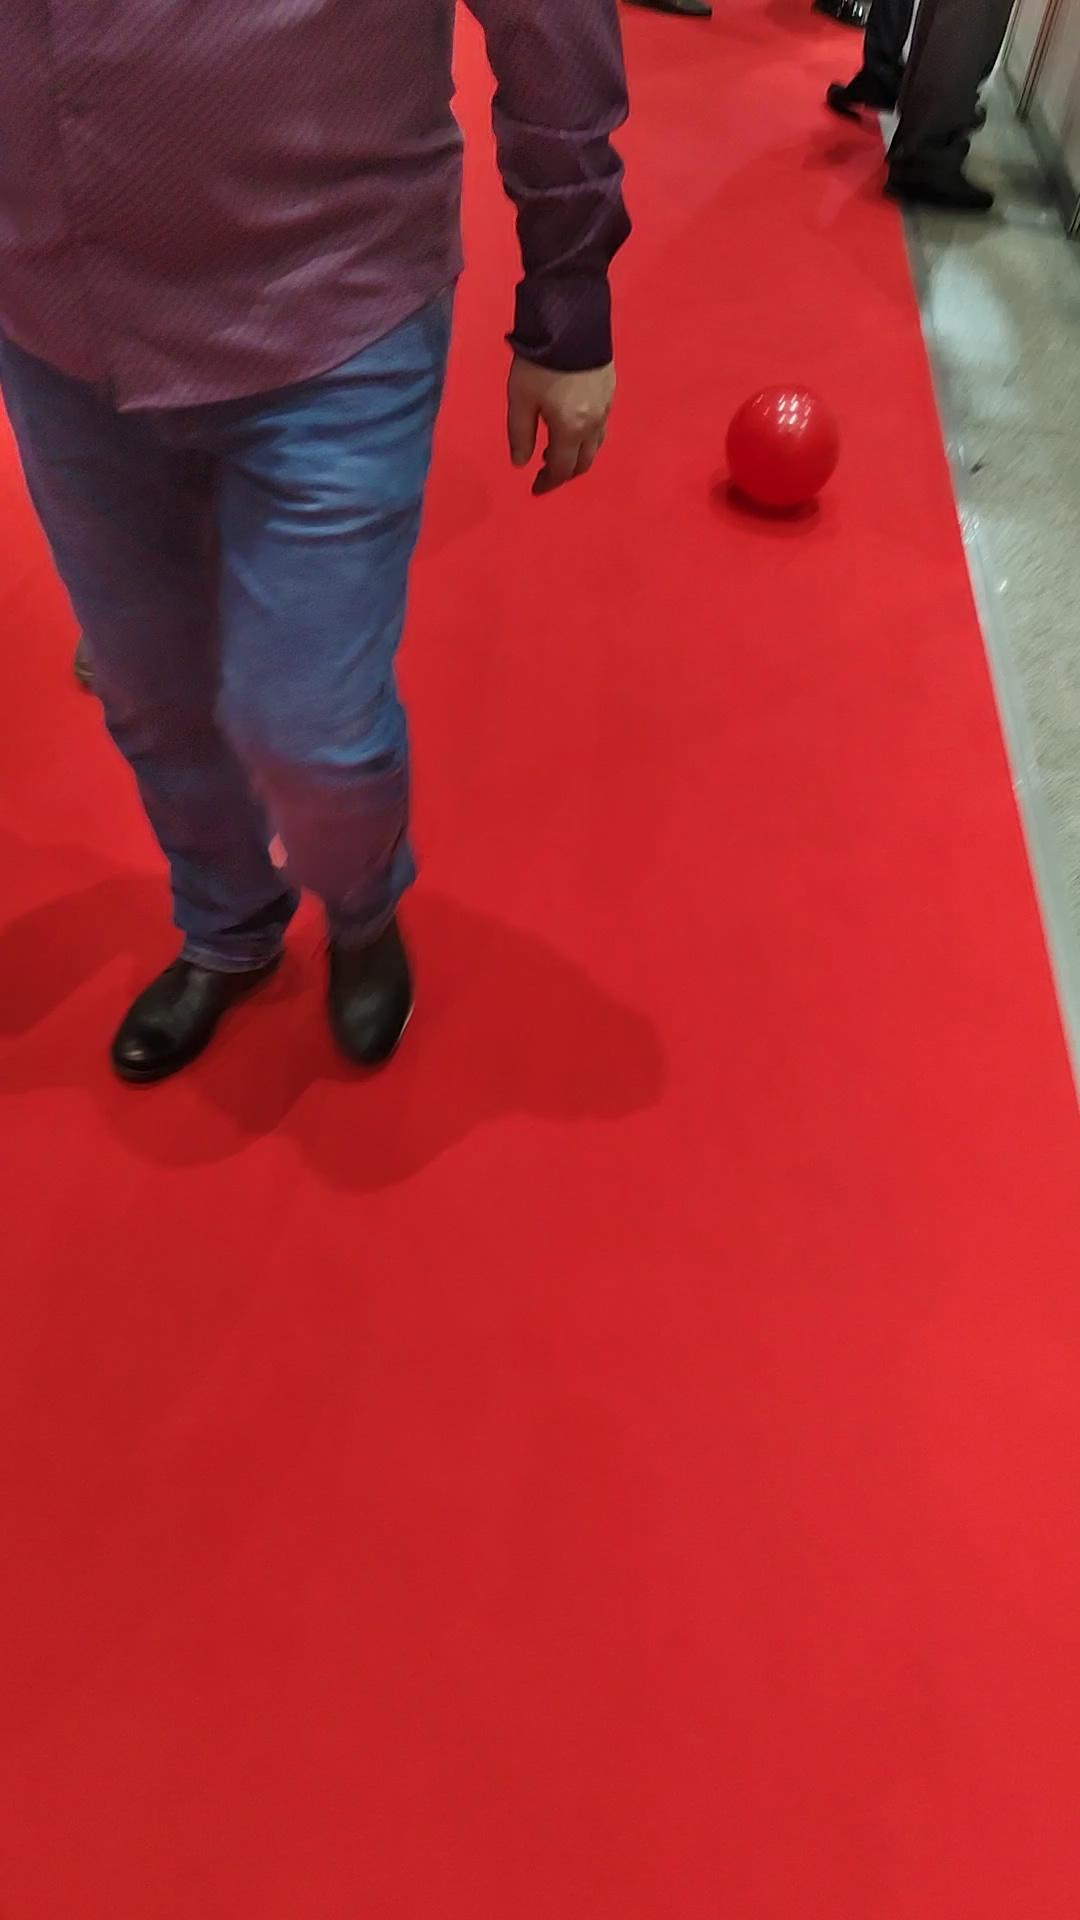red: (725, 383, 843, 507)
